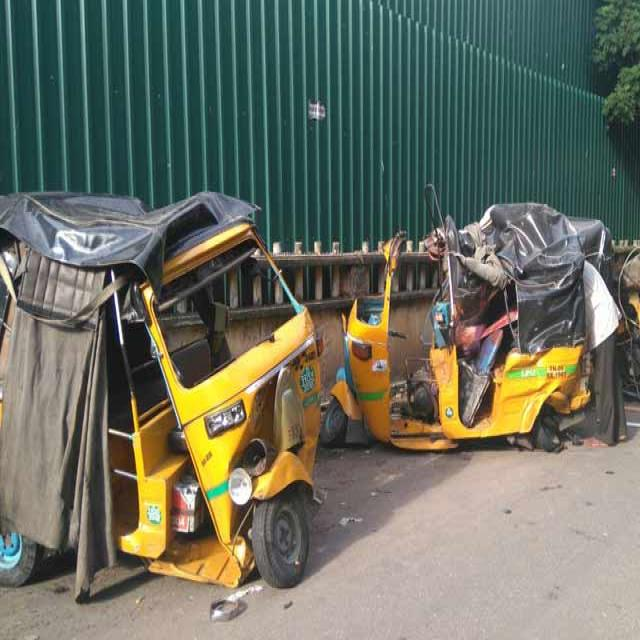accident: (0, 192, 320, 600), (320, 203, 614, 451)
